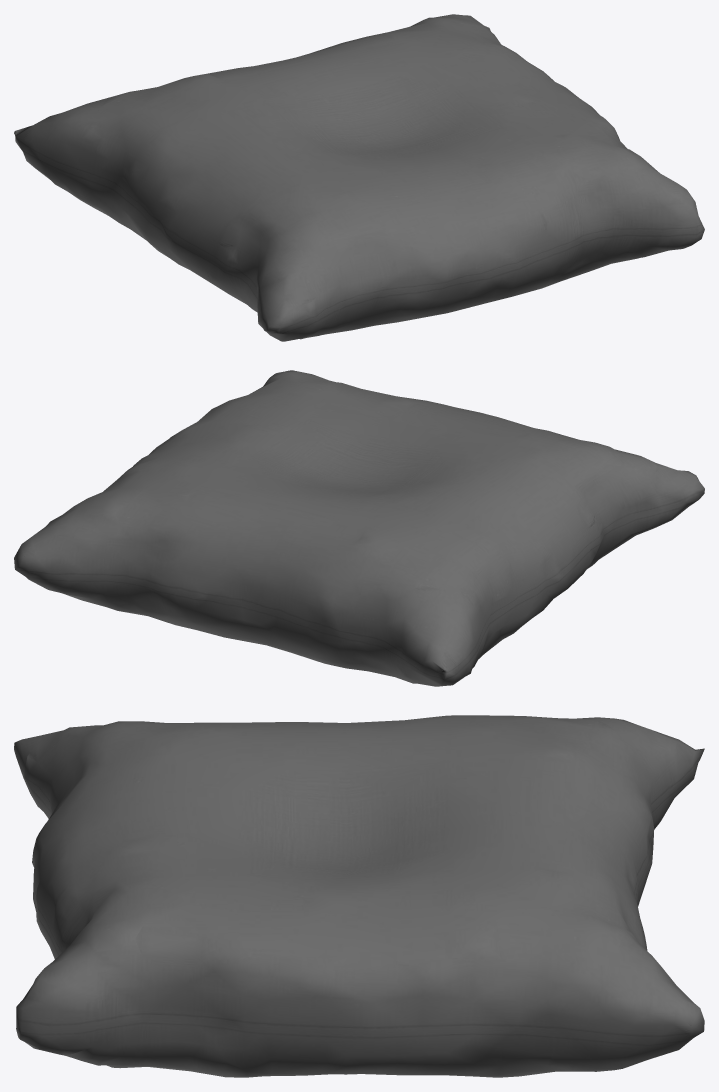
The model's file is cushion.gltf.
The picture shows the model from 3 angles, top to bottom: view 1: azimuth 30°, elevation 25°; view 2: azimuth 150°, elevation 25°; view 3: azimuth 270°, elevation 25°; orthographic projection. The views are drawn at different scales.
Parts seen in each view (by area): view 1: Cube.009; view 2: Cube.009; view 3: Cube.009.
Part boxes in pixels (x1,y1,x2,y2): Cube.009: (14, 14, 704, 341); Cube.009: (14, 370, 704, 686); Cube.009: (14, 715, 704, 1077).
Size of the model in its own units: 2.68 by 0.8312 by 2.7.
1 material, 1 textured.
